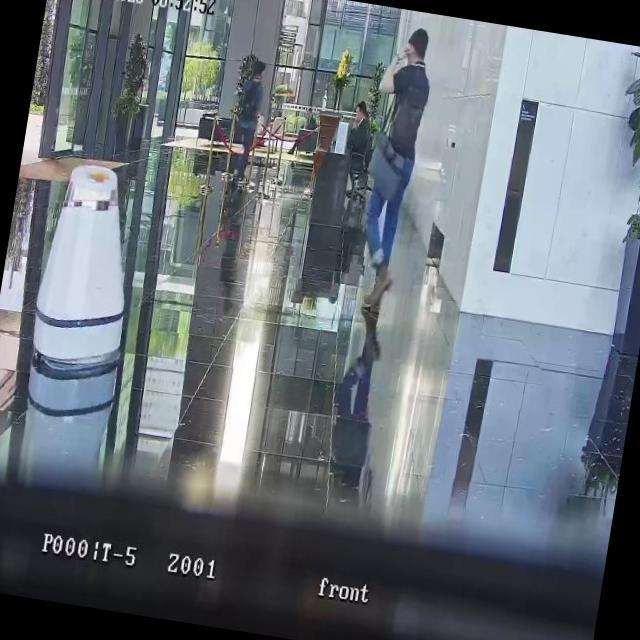person: (352, 23, 439, 276), (224, 62, 268, 186), (341, 100, 376, 180), (287, 102, 322, 160)
